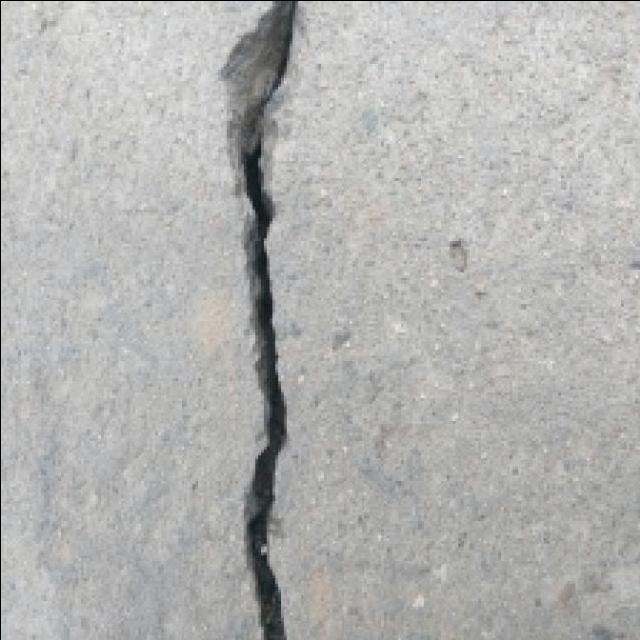SurfaceCrack: (192, 0, 336, 640)
